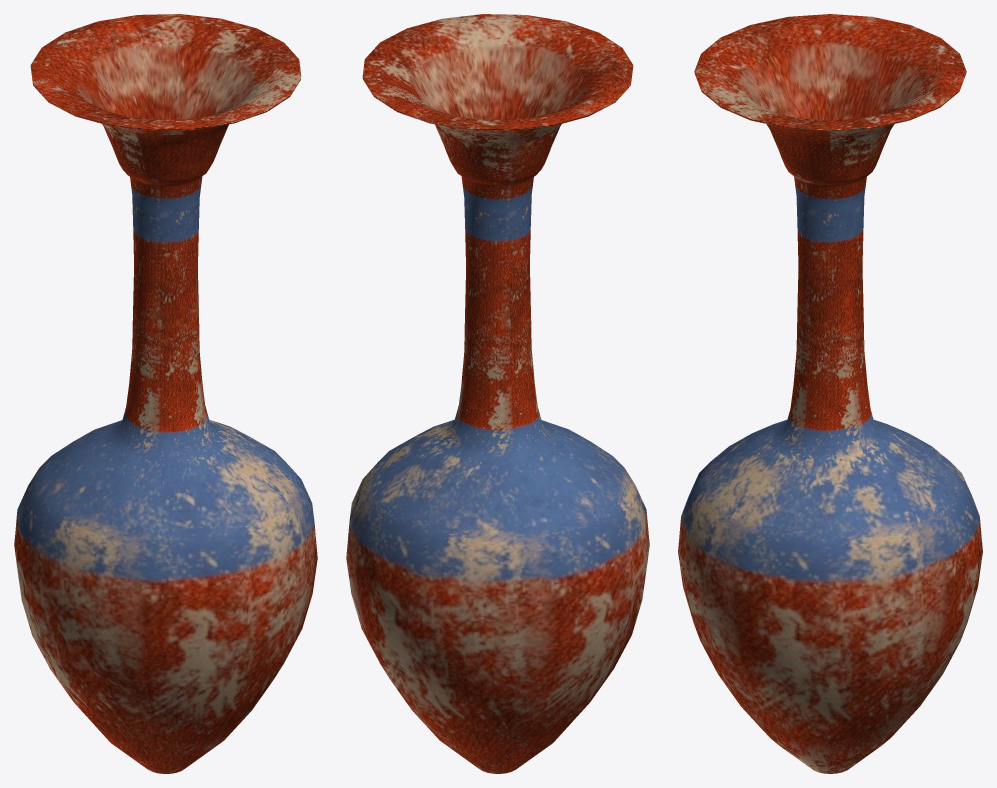
File: kv54-vase.glb
3 views of the same model, side by side, from view 1: azimuth 30°, elevation 25°; view 2: azimuth 150°, elevation 25°; view 3: azimuth 270°, elevation 25° (orthographic).
Visible parts, largest first — view 1: pCylinder1; view 2: pCylinder1; view 3: pCylinder1.
Boxes of the visible parts, <box> form: pCylinder1: <box>14,14,317,773</box>; pCylinder1: <box>346,14,649,773</box>; pCylinder1: <box>678,14,982,773</box>.
Bounding box in the file's own units: 0.032 × 0.0802 × 0.032.
1 material, 1 textured.
